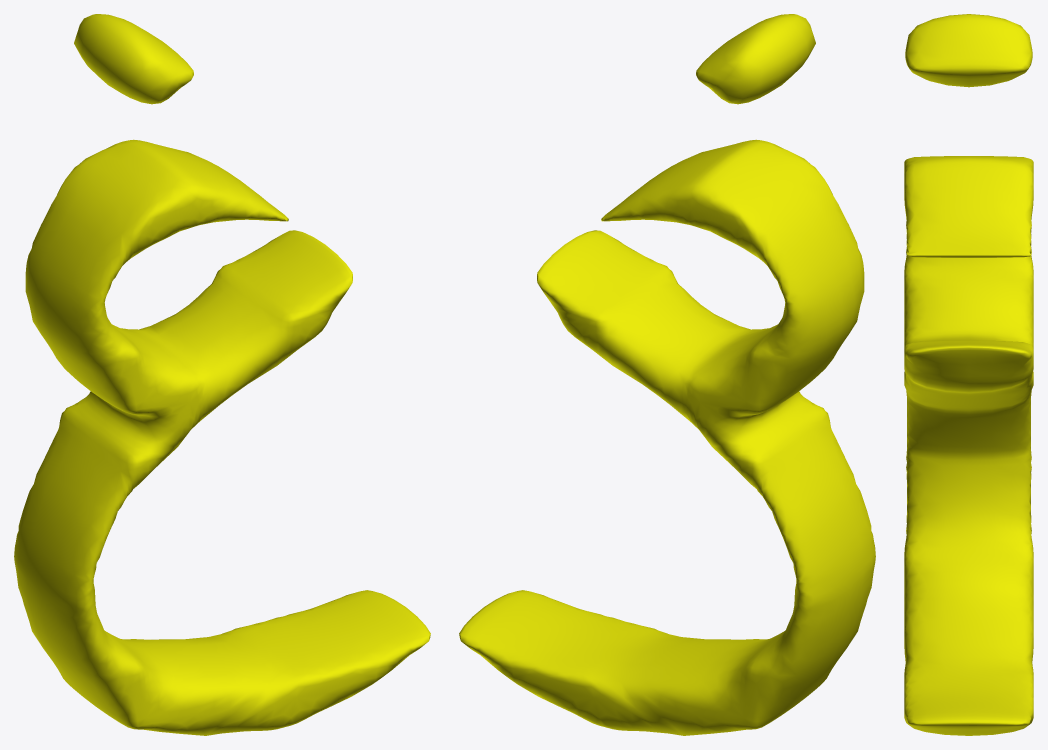
The picture shows the model from 3 angles, left to right: view 1: azimuth 30°, elevation 25°; view 2: azimuth 150°, elevation 25°; view 3: azimuth 270°, elevation 25°; orthographic projection. The views are drawn at different scales.
Parts seen in each view (by area): view 1: char_1; view 2: char_1; view 3: char_1.
Boxes of the visible parts, box(x1,y1,x2,y2) form: char_1: box(14, 14, 430, 735); char_1: box(459, 14, 875, 735); char_1: box(904, 14, 1033, 735).
Size of the model in its own units: 5.79 by 10.9 by 1.98.
